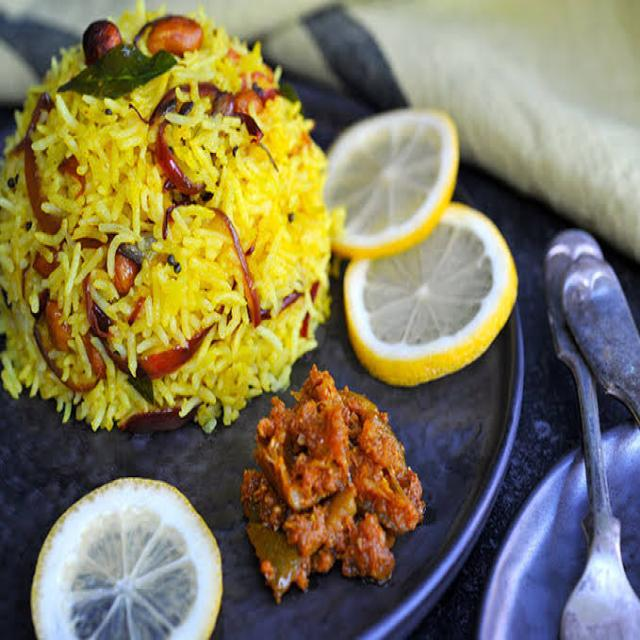BIRIYANI: (2, 5, 332, 389)
PICKLE: (255, 378, 406, 573)
